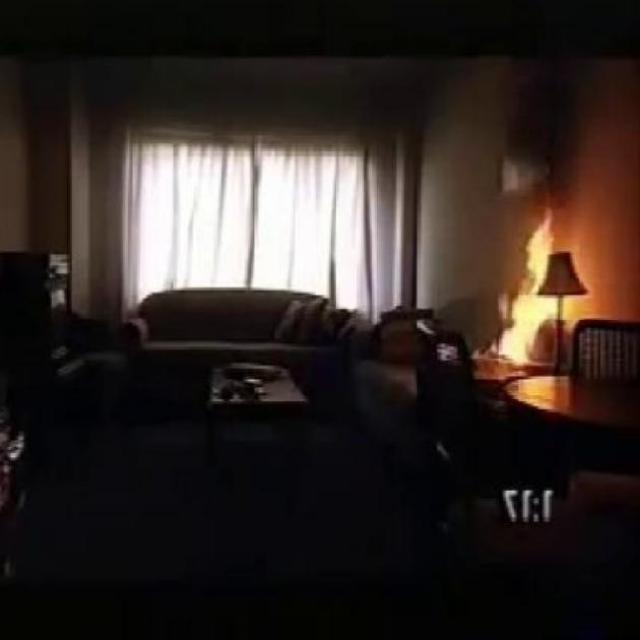smoke: (496, 205, 574, 360)
